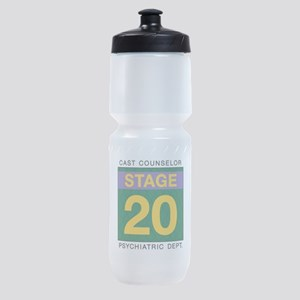bottle: (91, 2, 203, 291)
